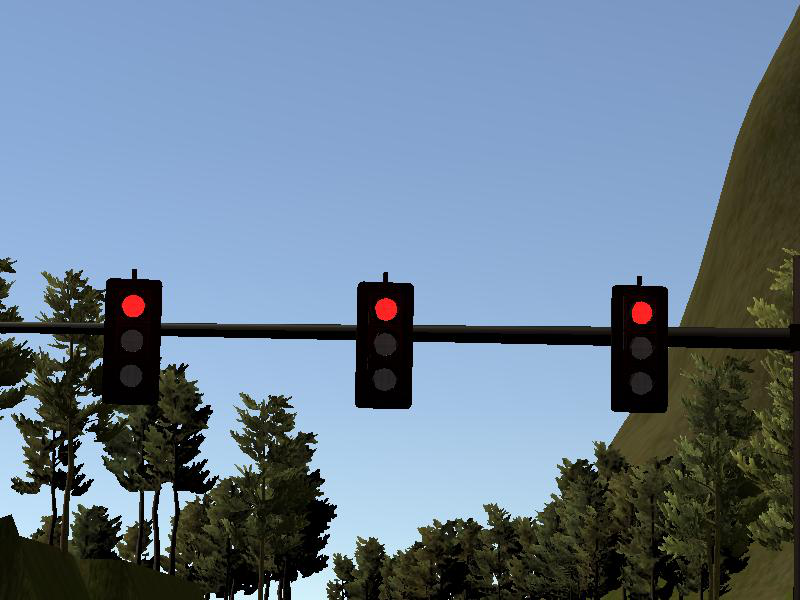red: (102, 278, 163, 405), (612, 286, 668, 414), (358, 284, 414, 411)
